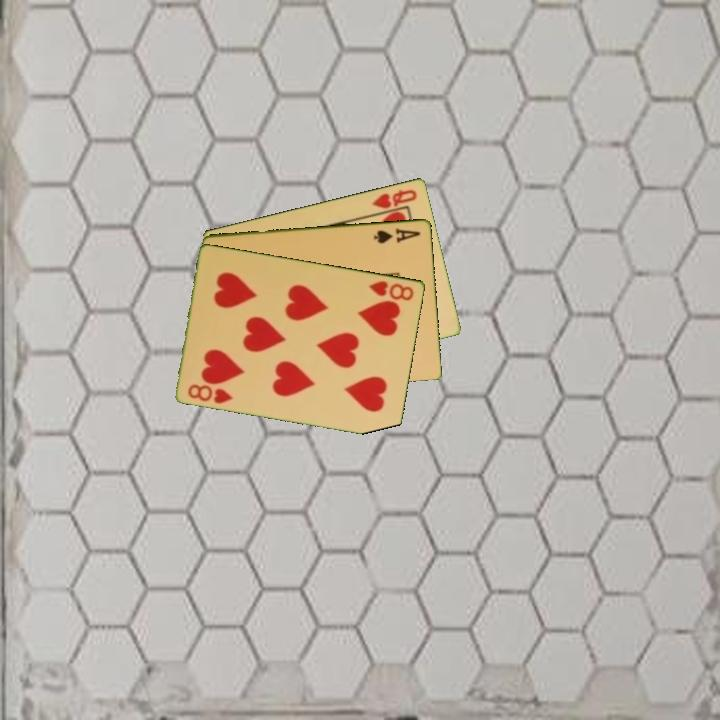8h: (366, 277, 417, 303), (185, 380, 236, 406)
As: (371, 225, 424, 246)
Qh: (369, 186, 420, 211)
